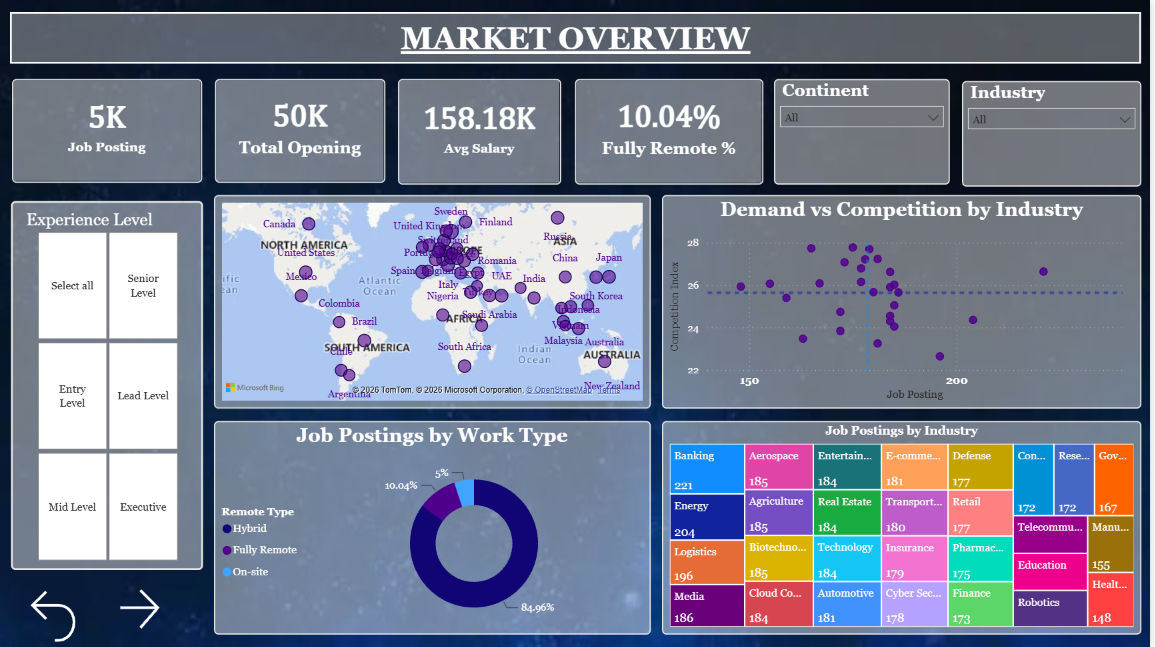

The page's visual inventory and layout, read from the dashboard file:
{"tool":"powerbi","page":{"name":"MARKET OVERVIEW","canvas":[1280,720],"ordinal":0},"visuals":[{"type":"shape","box":[13.6,13.6,1256.8,57.5],"z":0},{"type":"cardVisual","fields":{"Data":["Jobs.Total Jobs"]},"box":[15.9,87.6,211.1,115.5],"z":1000},{"type":"cardVisual","fields":{"Data":["Jobs.Avg Salary"]},"box":[444.2,87.6,181.2,117.5],"z":2000},{"type":"cardVisual","fields":{"Data":["Jobs.Total Opening"]},"box":[241,87.6,189.2,115.5],"z":3000},{"type":"cardVisual","fields":{"Data":["Jobs.Remote Share %"]},"box":[641.3,87.6,209.1,117.5],"z":4000},{"type":"slicer","fields":{"Values":["Jobs.Experience Level"]},"box":[13.9,223.1,213.1,410.3],"z":5000},{"type":"slicer","fields":{"Values":["Jobs.Industry"]},"box":[1071.6,89.6,199.2,117.5],"z":6000},{"type":"map","fields":{"Category":["Jobs.Country"],"Size":["Jobs.Total Jobs"]},"box":[240.2,216.3,485.1,237],"z":7000},{"type":"scatterChart","title":"Demand vs Competition by Industry","fields":{"Category":["Jobs.Industry"],"X":["Jobs.Job Posting"],"Y":["Jobs.Competition Index"]},"box":[738,216.3,532.9,237],"z":8000},{"type":"donutChart","title":"Job Postings by Work Type","fields":{"Category":["Jobs.Remote Type"],"Y":["Jobs.Job Posting"]},"box":[240.2,467.6,485.1,237],"z":9000},{"type":"slicer","fields":{"Values":["Jobs.Continent"]},"box":[862.4,87.6,195.2,117.5],"z":10000},{"type":"actionButton","box":[25.4,649,74.8,71.6],"z":11000},{"type":"actionButton","box":[128.8,649,82.7,55.7],"z":12000},{"type":"treemap","title":"Job Postings by Industry","fields":{"Group":["Jobs.Industry"],"Values":["Jobs.Job Posting"]},"box":[738,467.6,532.9,237],"z":13000}]}

Visuals, with their boxes in screenshot pixels (x1, y1, x2, y2), scaled from the page's 1280x720 canvas onto the 1155x647 screenshot:
shape: [12, 12, 1146, 64]
cardVisual - Jobs.Total Jobs: [14, 79, 205, 183]
cardVisual - Jobs.Avg Salary: [401, 79, 564, 184]
cardVisual - Jobs.Total Opening: [217, 79, 388, 183]
cardVisual - Jobs.Remote Share %: [579, 79, 767, 184]
slicer - Jobs.Experience Level: [13, 200, 205, 569]
slicer - Jobs.Industry: [967, 81, 1147, 186]
map - Jobs.Country x Jobs.Total Jobs: [217, 194, 654, 407]
"Demand vs Competition by Industry" scatterChart: [666, 194, 1147, 407]
"Job Postings by Work Type" donutChart: [217, 420, 654, 633]
slicer - Jobs.Continent: [778, 79, 954, 184]
actionButton: [23, 583, 90, 646]
actionButton: [116, 583, 191, 633]
"Job Postings by Industry" treemap: [666, 420, 1147, 633]
